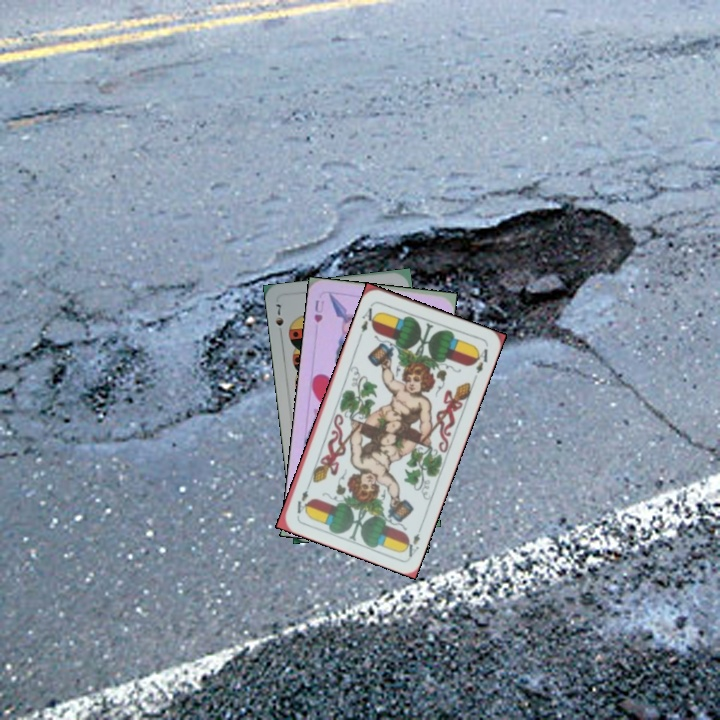EA: (399, 520, 425, 560), (357, 300, 380, 335)
HU: (310, 296, 327, 325)
S7: (271, 300, 286, 339)
